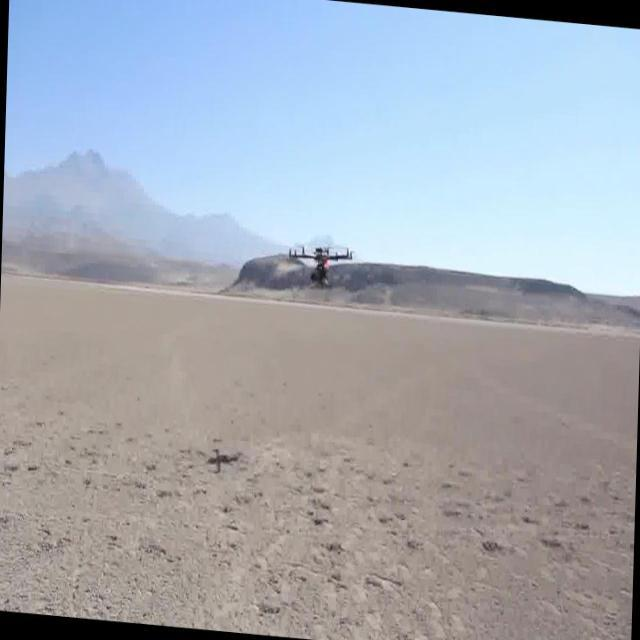drone: (285, 230, 356, 292)
